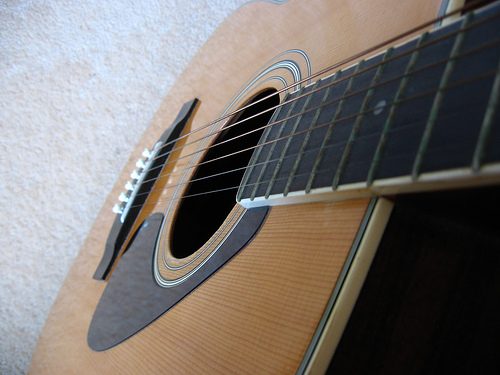guitar: (20, 1, 500, 375)
